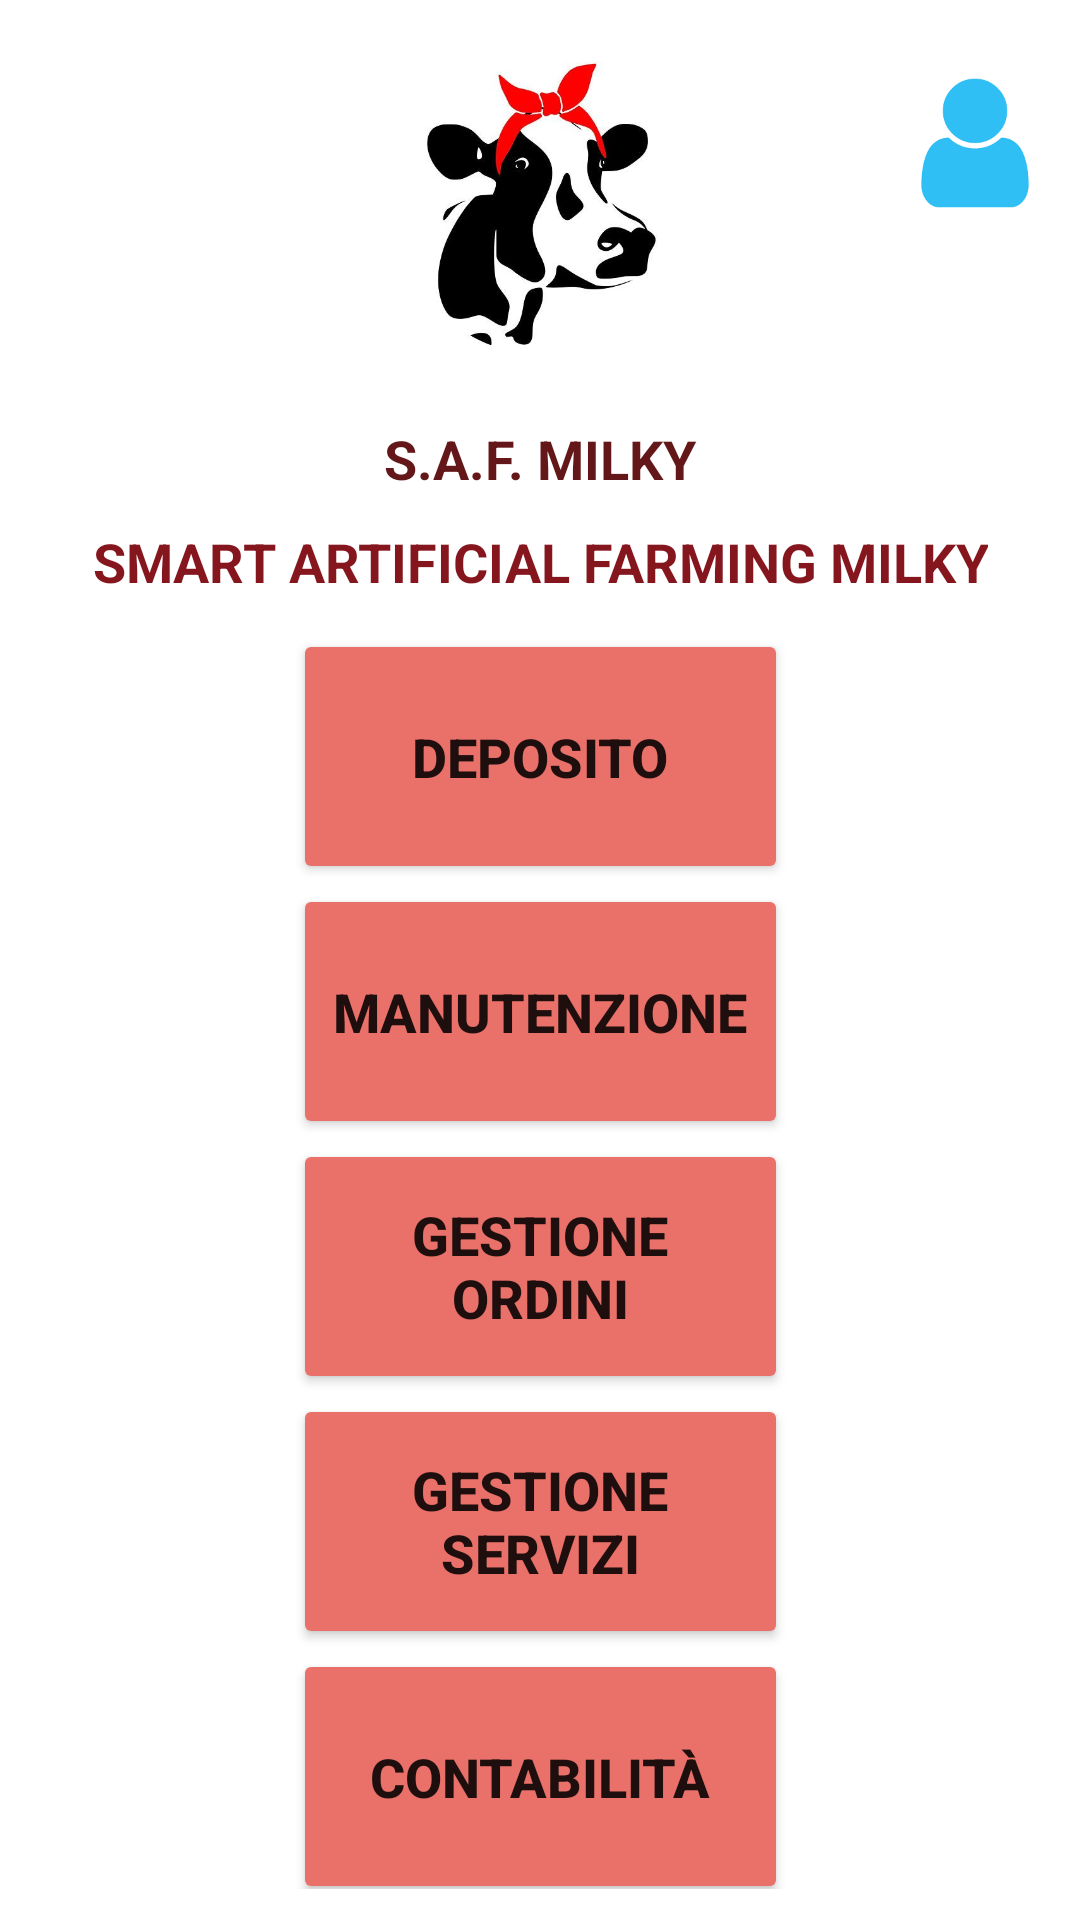

Icons on this 1080px x 1920px Android screen, each with its box as region(x1, y1, x2, y2):
user: region(921, 78, 1029, 208)
